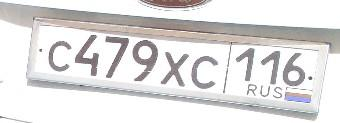license-plateSW: (35, 24, 320, 104)
